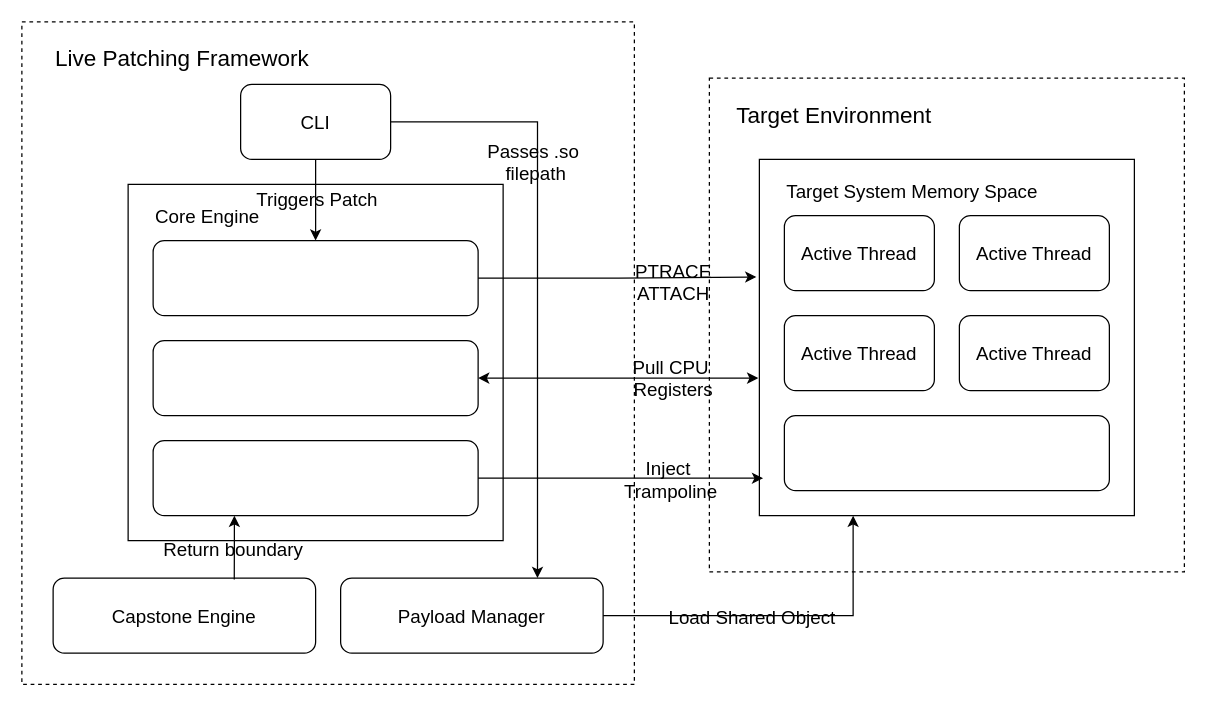
This 1206x706 diagram has some shape labels left out. The centre of each missing label's shape, as x and y in pixels:
.text Segment (Executable Memory): pixel 946 452
Memory Interposition Layer: pixel 315 477
Process Control Layer (ptrace): pixel 315 277
Thread & Register Auditor: pixel 315 377
